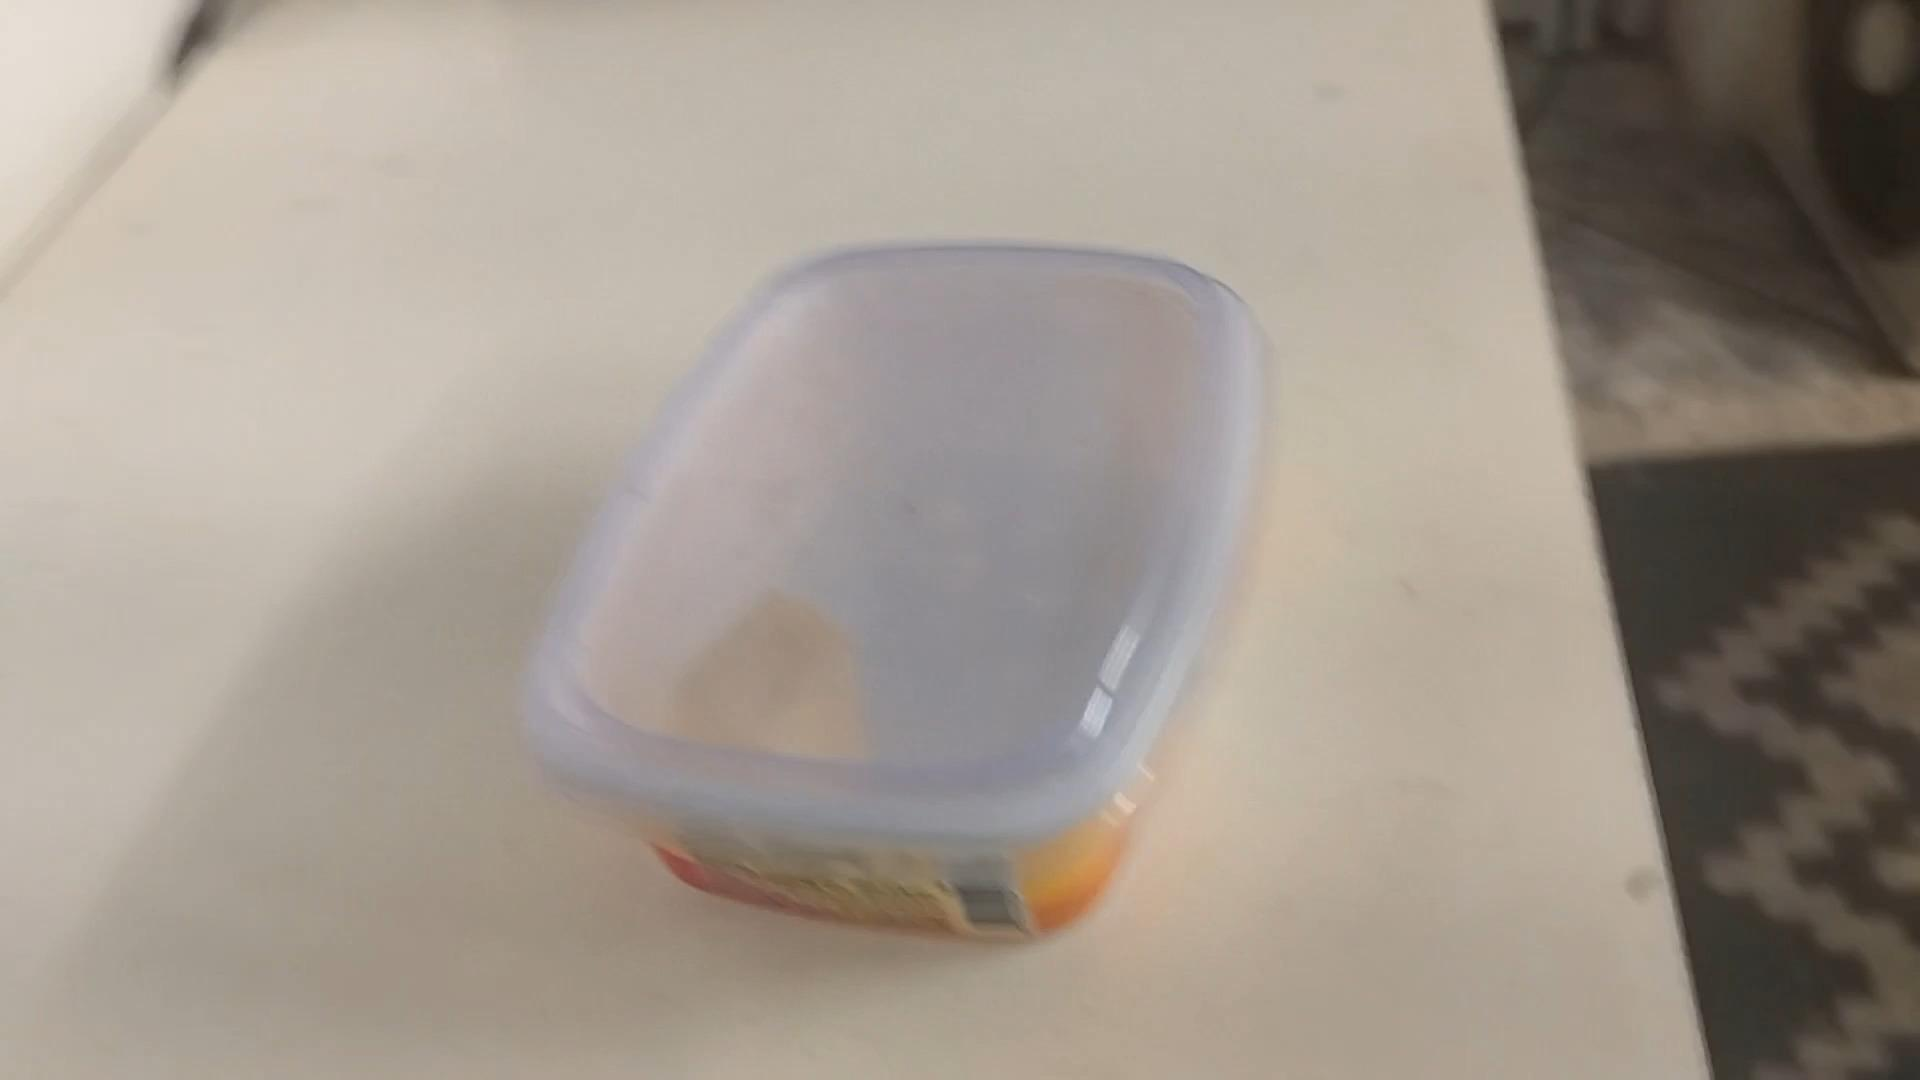butter: (516, 240, 1259, 942)
